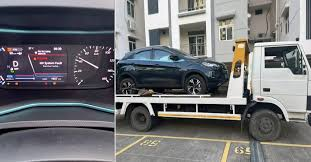Tata Nexon: (117, 43, 228, 104)
